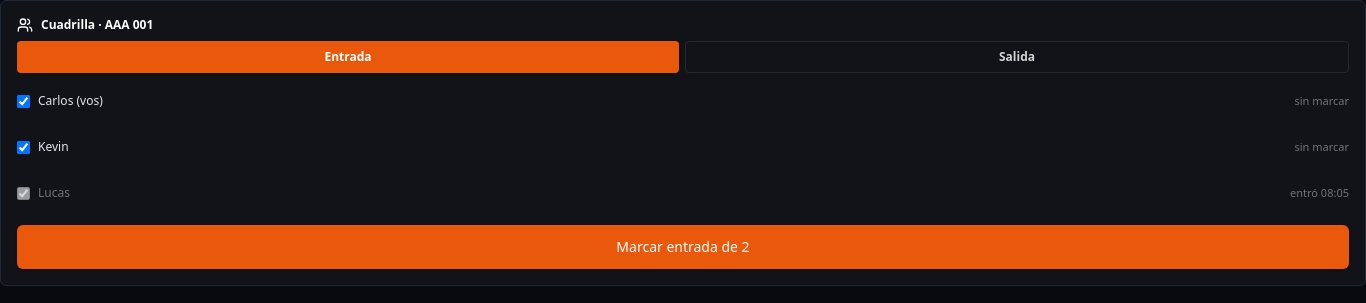
Test: Loop 16 — cuadrilla (En la calle) › salida: solo se puede tildar a quien entró
The image size is (1366, 303).
Step 1. Click the button "Salida" → (1017, 57), box [685, 41, 1349, 73]
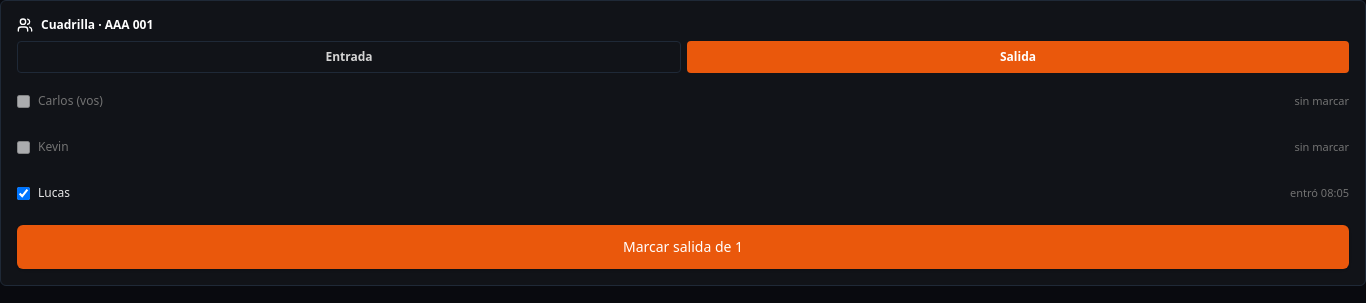
Expected: the checkbox labelled "Kevin sin marcar" is disabled, [17, 140, 30, 154]
Expected: the button "Marcar salida de 1" is shown, [17, 225, 1349, 269]
